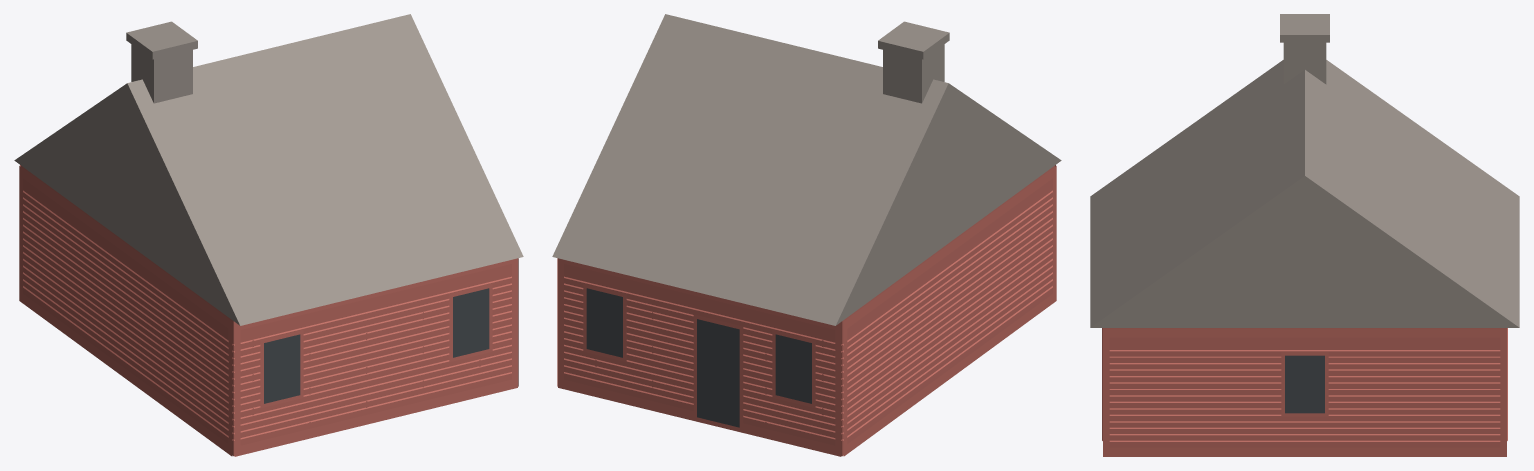
The model's file is recon_1835_north_d4_017__inferred_1835.glb.
3 renders of one model, left to right at view 1: azimuth 30°, elevation 25°; view 2: azimuth 150°, elevation 25°; view 3: azimuth 270°, elevation 25°, orthographic. The views are drawn at different scales.
Parts seen in each view (by area): view 1: recon_1835_north_d4_017__inferred_1835; view 2: recon_1835_north_d4_017__inferred_1835; view 3: recon_1835_north_d4_017__inferred_1835.
Part boxes in pixels (box(x1,y1,x2,y2)): recon_1835_north_d4_017__inferred_1835: box(14, 14, 523, 456); recon_1835_north_d4_017__inferred_1835: box(552, 14, 1061, 456); recon_1835_north_d4_017__inferred_1835: box(1090, 14, 1519, 456).
Bounding box in the file's own units: 6.18 × 6.85 × 8.43.
